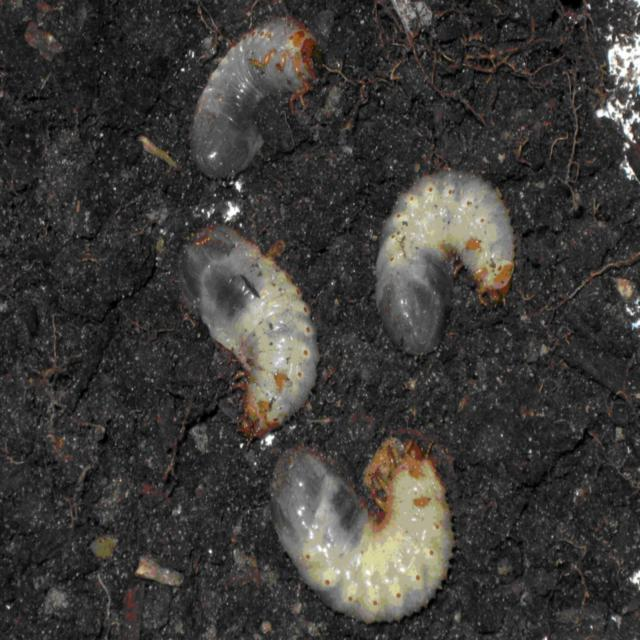grub: (268, 442, 470, 629), (373, 167, 525, 375), (178, 226, 324, 441), (194, 16, 318, 173)
